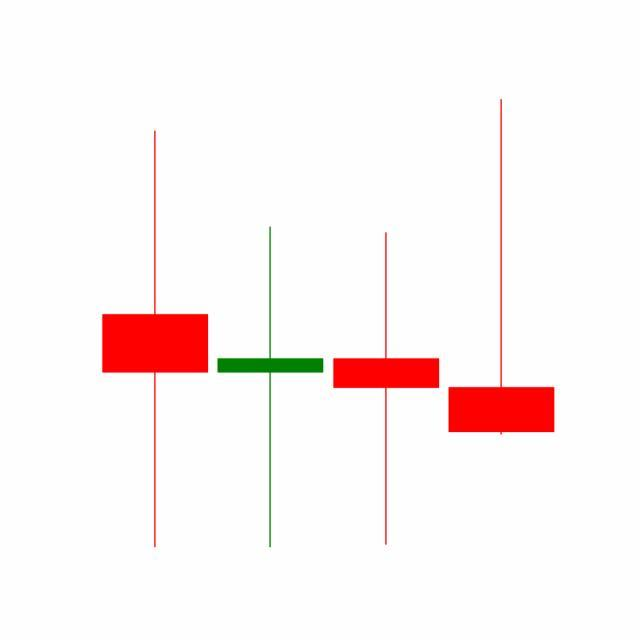Spinning Top: (329, 230, 445, 550)
